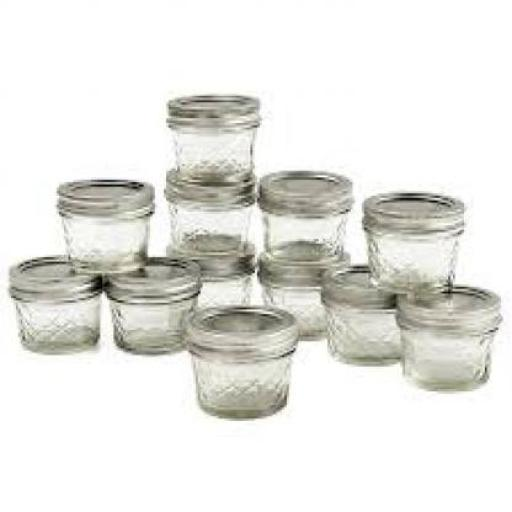glass: (364, 205, 460, 298), (398, 326, 492, 387), (189, 355, 286, 414), (56, 214, 148, 276), (260, 209, 343, 265), (12, 299, 100, 350), (168, 128, 253, 180), (326, 303, 398, 362), (109, 300, 196, 348), (264, 285, 328, 339), (168, 204, 246, 246), (195, 276, 251, 309)
metal: (323, 266, 451, 308), (186, 304, 296, 352), (102, 255, 201, 298), (257, 168, 351, 212), (54, 172, 153, 212), (255, 241, 351, 280), (9, 255, 96, 298), (399, 285, 496, 323), (361, 191, 460, 225), (163, 168, 251, 205), (166, 237, 250, 275), (164, 91, 257, 123)
